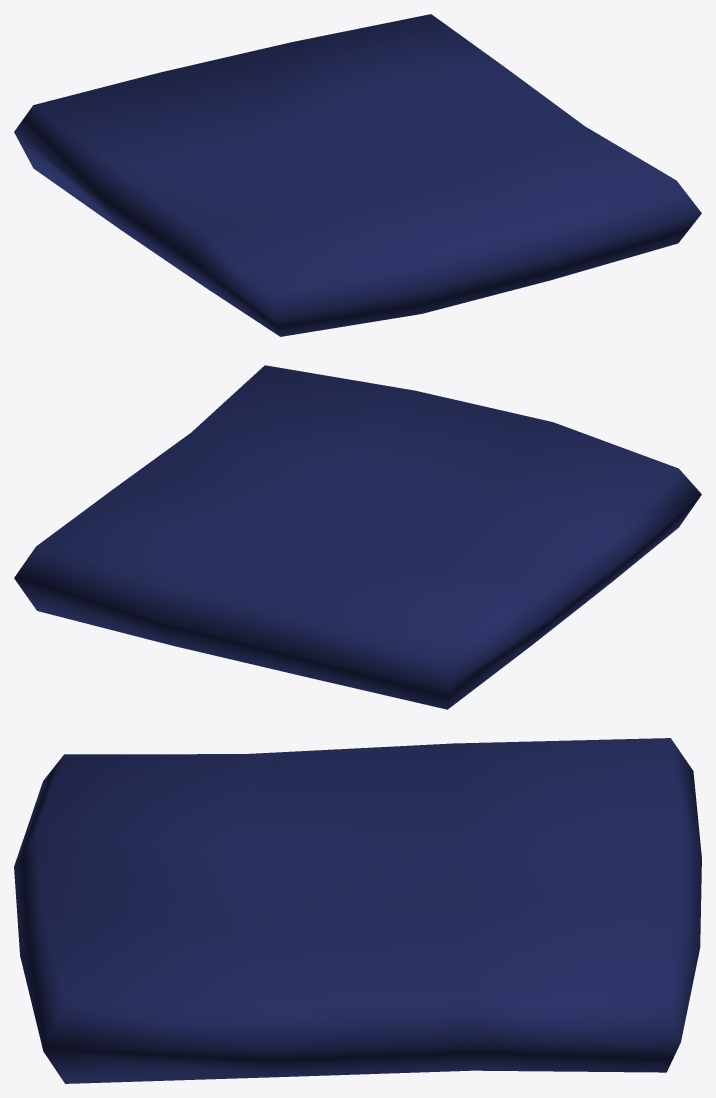
The model's file is JapanMPillow.fbx.
The picture shows the model from 3 angles, top to bottom: view 1: azimuth 30°, elevation 25°; view 2: azimuth 150°, elevation 25°; view 3: azimuth 270°, elevation 25°; orthographic projection. The views are drawn at different scales.
Visible parts, largest first — view 1: Plane.006; view 2: Plane.006; view 3: Plane.006.
Boxes of the visible parts, left/top/right/bottom form: Plane.006: left=14, top=14, right=701, bottom=336; Plane.006: left=14, top=365, right=701, bottom=709; Plane.006: left=14, top=738, right=701, bottom=1083.
Bounding box in the file's own units: 67.26 × 12.33 × 70.78.
